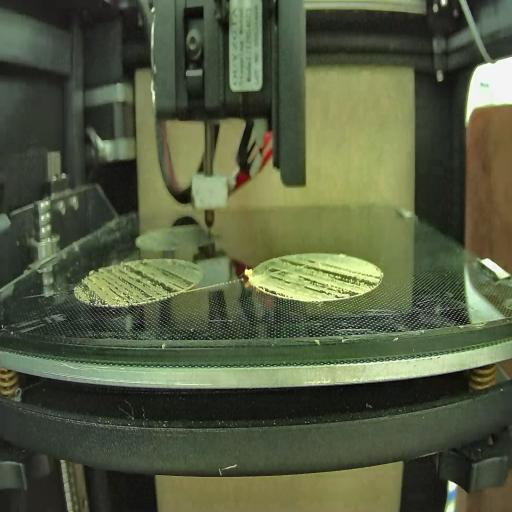under_extrusion: (74, 259, 199, 306), (258, 258, 382, 298)
